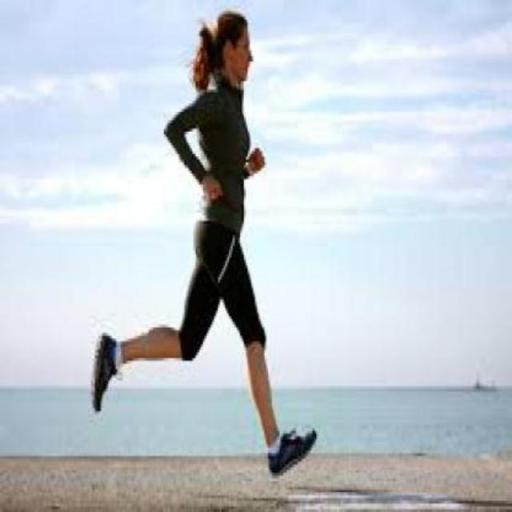Running: (54, 0, 376, 502)
